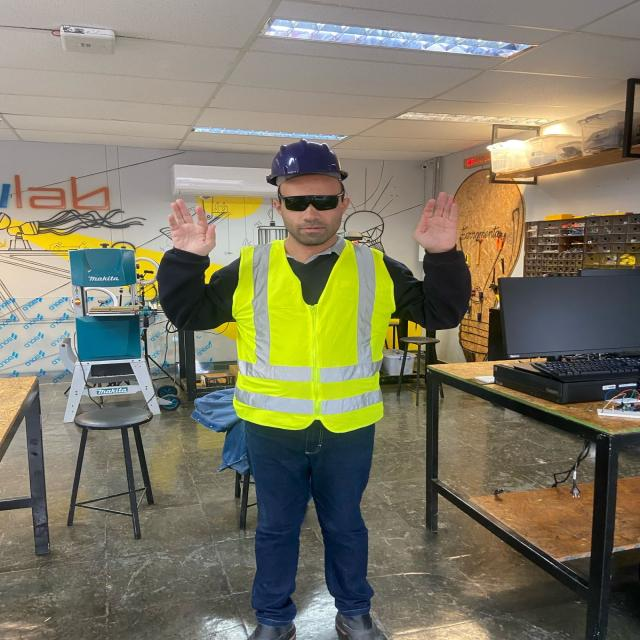BOTA: (339, 596, 401, 640), (237, 612, 299, 640)
CAPACETE: (255, 137, 350, 188)
COLETE: (222, 235, 396, 436)
OCULOS: (274, 191, 340, 213)
SEM LUVA: (401, 188, 466, 255), (162, 195, 217, 265)
